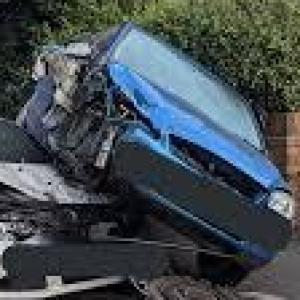fatal: (0, 13, 300, 300)
